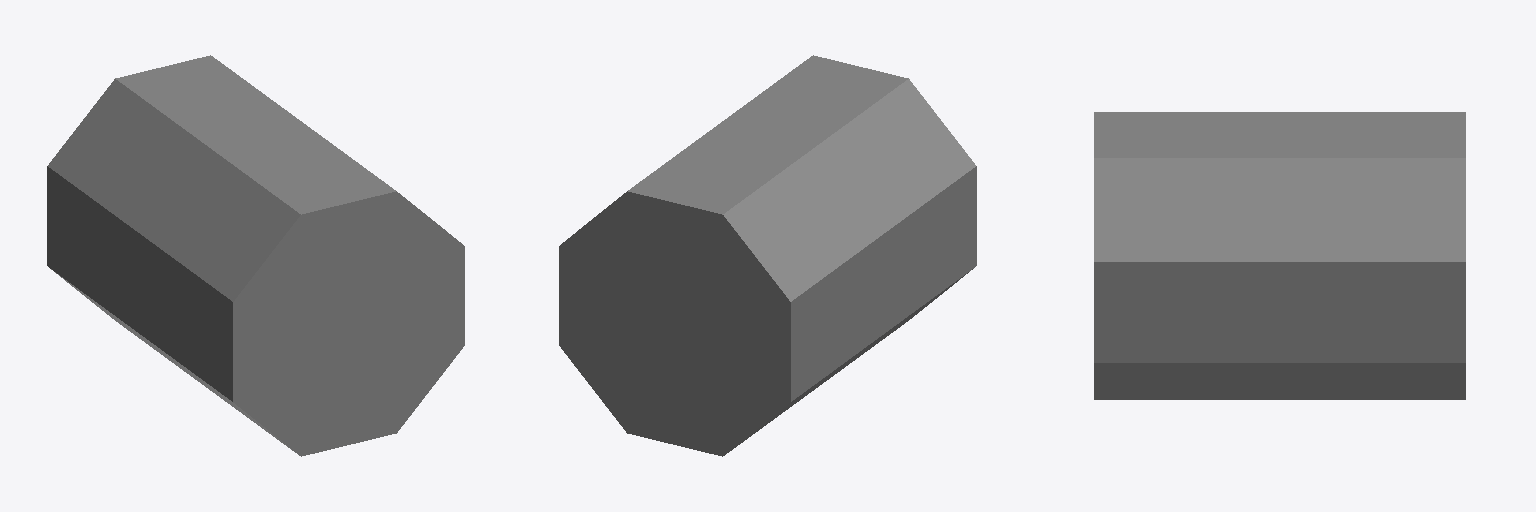
Rendered from icub_simple_collision_r_ankle_1.obj.
3 views of the same model, side by side, from view 1: azimuth 30°, elevation 25°; view 2: azimuth 150°, elevation 25°; view 3: azimuth 270°, elevation 25° (orthographic).
Parts seen in each view (by area): view 1: r_ankle_1_mesh_Cylinder.027; view 2: r_ankle_1_mesh_Cylinder.027; view 3: r_ankle_1_mesh_Cylinder.027.
Boxes of the visible parts, <box> form: r_ankle_1_mesh_Cylinder.027: <box>47,55,464,456</box>; r_ankle_1_mesh_Cylinder.027: <box>559,55,976,456</box>; r_ankle_1_mesh_Cylinder.027: <box>1094,112,1465,399</box>.
Size of the model in its own units: 0.0453 by 0.0453 by 0.063.